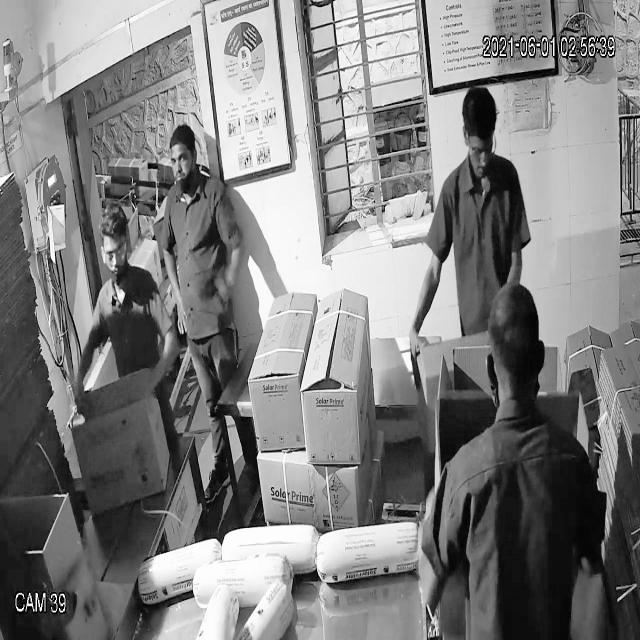glasses: (97, 230, 131, 268)
